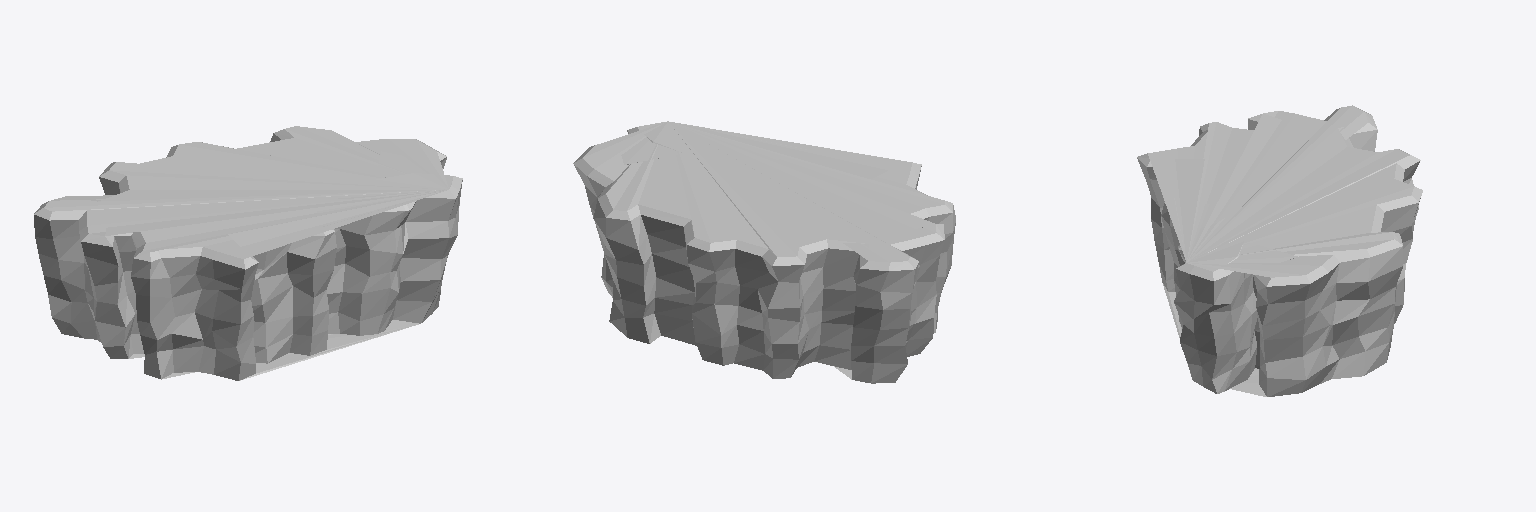
File: Cliff_1.obj
3 renders of one model, left to right at view 1: azimuth 30°, elevation 25°; view 2: azimuth 150°, elevation 25°; view 3: azimuth 270°, elevation 25°, orthographic.
Visible parts, largest first — view 1: Cliff_1_Cube.003; view 2: Cliff_1_Cube.003; view 3: Cliff_1_Cube.003.
Boxes of the visible parts, x1,y1,x2,y2 form: Cliff_1_Cube.003: [34, 126, 462, 380]; Cliff_1_Cube.003: [573, 121, 955, 383]; Cliff_1_Cube.003: [1137, 105, 1422, 396].
Size of the model in its own units: 53.1 by 17.97 by 35.71.